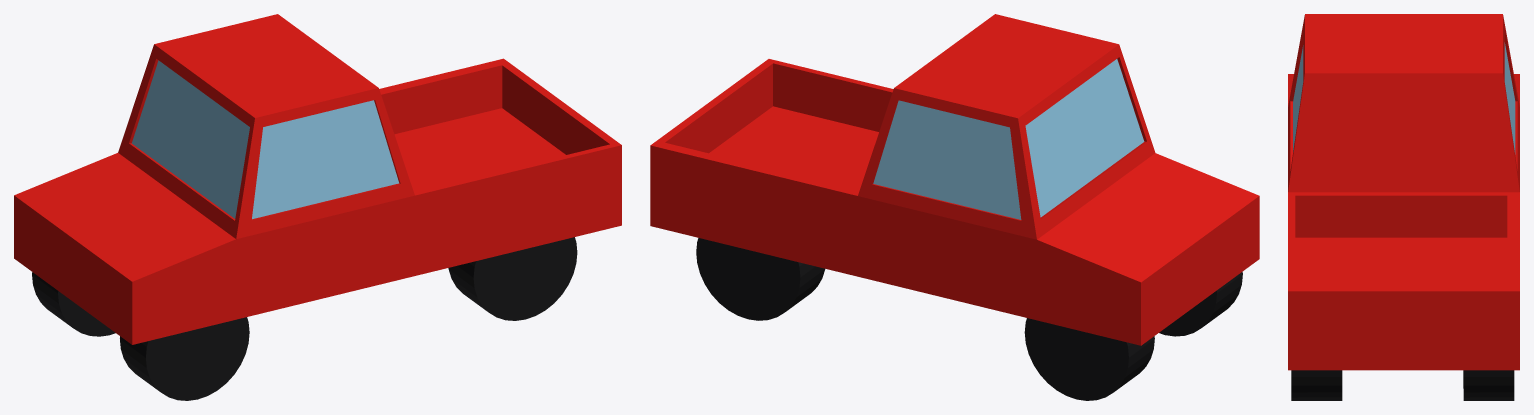
The model's file is truck.gltf.
3 renders of one model, left to right at view 1: azimuth 30°, elevation 25°; view 2: azimuth 150°, elevation 25°; view 3: azimuth 270°, elevation 25°, orthographic. The views are drawn at different scales.
Parts seen in each view (by area): view 1: truck; view 2: truck; view 3: truck.
Boxes of the visible parts, <box> form: truck: <box>14,14,621,400</box>; truck: <box>650,14,1259,400</box>; truck: <box>1288,14,1519,400</box>.
Size of the model in its own units: 9.42 by 4.79 by 3.94.
